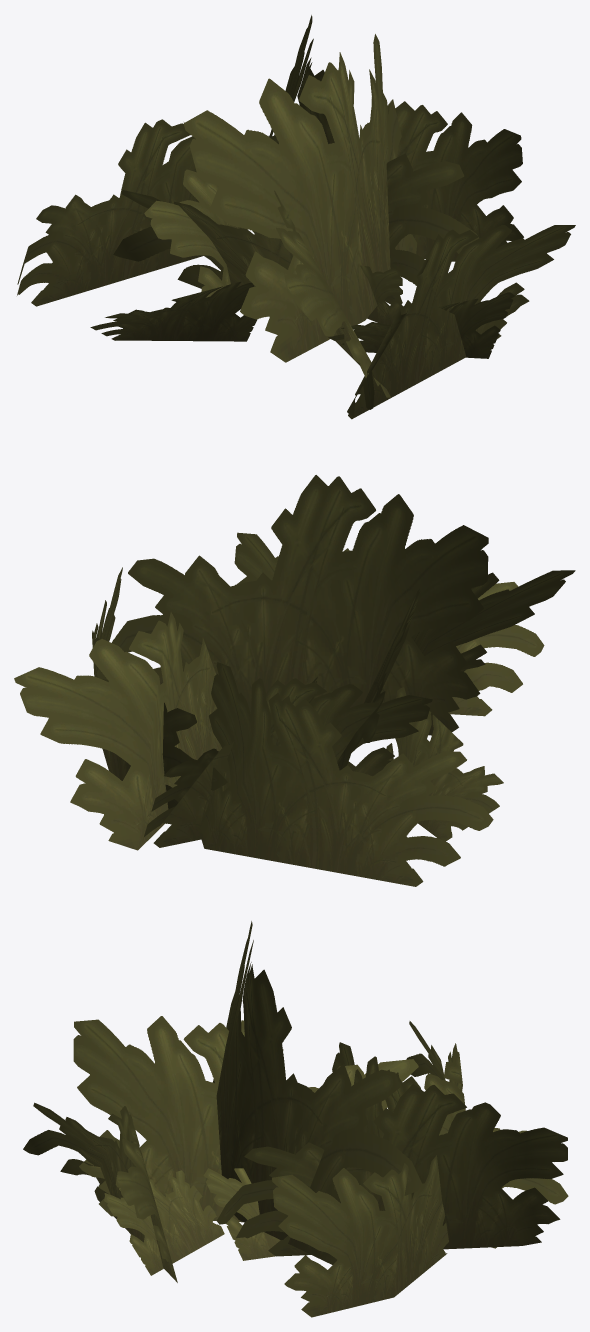
The model's file is Grass0.fbx.
3 views of the same model, one above another, from view 1: azimuth 30°, elevation 25°; view 2: azimuth 150°, elevation 25°; view 3: azimuth 270°, elevation 25° (orthographic). The views are drawn at different scales.
Visible parts, largest first — view 1: SM_grass_planes_1_a; view 2: SM_grass_planes_1_a; view 3: SM_grass_planes_1_a.
Boxes of the visible parts, bbox=[...] form: SM_grass_planes_1_a: bbox=[17, 15, 575, 419]; SM_grass_planes_1_a: bbox=[14, 475, 575, 886]; SM_grass_planes_1_a: bbox=[23, 921, 568, 1317].
Size of the model in its own units: 61.18 by 39.77 by 70.84.
